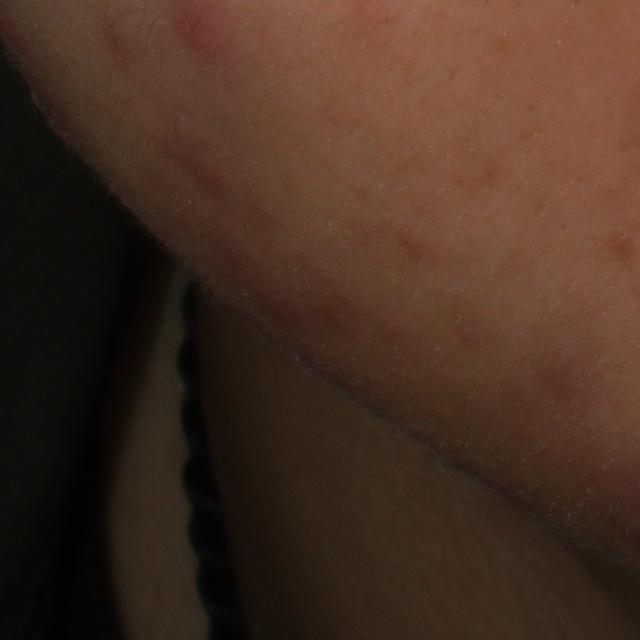papule: (174, 2, 246, 58), (192, 154, 228, 186)
